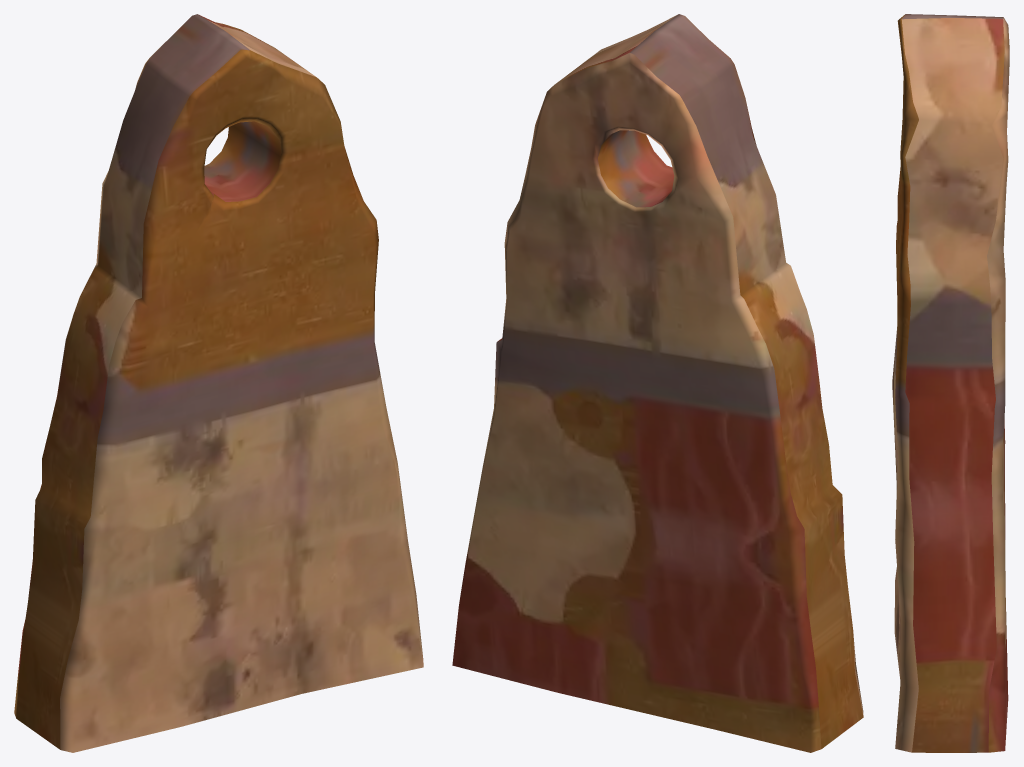
The picture shows the model from 3 angles, left to right: view 1: azimuth 30°, elevation 25°; view 2: azimuth 150°, elevation 25°; view 3: azimuth 270°, elevation 25°; orthographic projection.
Visible parts, largest first — view 1: SM_Longbow_HunterStag_2H_01_LOD0; view 2: SM_Longbow_HunterStag_2H_01_LOD0; view 3: SM_Longbow_HunterStag_2H_01_LOD0.
Boxes of the visible parts, <box> form: SM_Longbow_HunterStag_2H_01_LOD0: <box>14,14,423,752</box>; SM_Longbow_HunterStag_2H_01_LOD0: <box>452,14,863,752</box>; SM_Longbow_HunterStag_2H_01_LOD0: <box>892,14,1009,752</box>.
Size of the model in its own units: 3.84 by 6.58 by 1.08.
